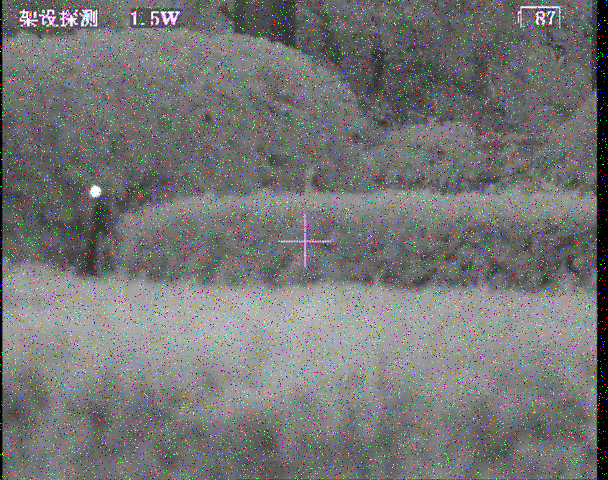my: (87, 184, 101, 199)
